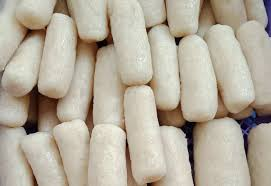Pempek lenjer: (200, 24, 258, 114), (121, 86, 170, 184), (104, 1, 154, 88), (54, 33, 101, 122), (195, 117, 250, 186), (179, 32, 217, 122), (92, 40, 129, 130), (146, 22, 182, 109), (39, 13, 75, 98), (18, 132, 72, 186), (1, 26, 43, 93), (51, 120, 93, 186), (89, 120, 129, 186), (0, 122, 32, 186), (159, 124, 192, 186)
